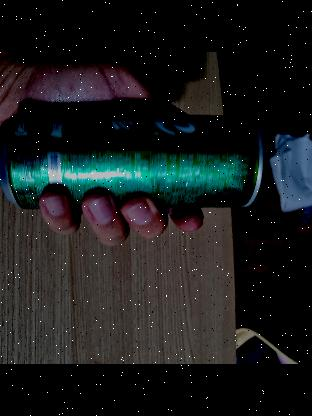Can: (0, 112, 270, 222)
